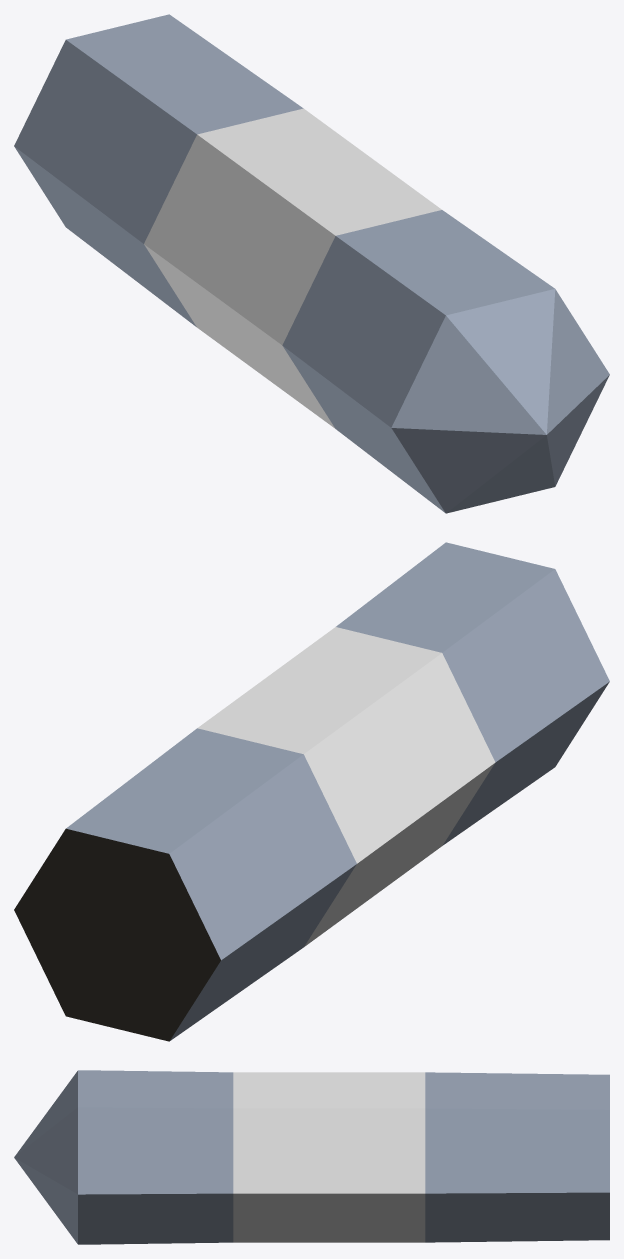
The model's file is 01_missile_hemnok.glb.
3 renders of one model, top to bottom at view 1: azimuth 30°, elevation 25°; view 2: azimuth 150°, elevation 25°; view 3: azimuth 270°, elevation 25°, orthographic. The views are drawn at different scales.
Parts seen in each view (by area): view 1: 01_missile_hemnok; view 2: 01_missile_hemnok; view 3: 01_missile_hemnok.
Part boxes in pixels (x1=…): 01_missile_hemnok: x1=14, y1=14, x2=609, y2=513; 01_missile_hemnok: x1=14, y1=542, x2=609, y2=1041; 01_missile_hemnok: x1=14, y1=1070, x2=609, y2=1244.
Bounding box in the file's own units: 0.2694 × 0.2333 × 0.916.
